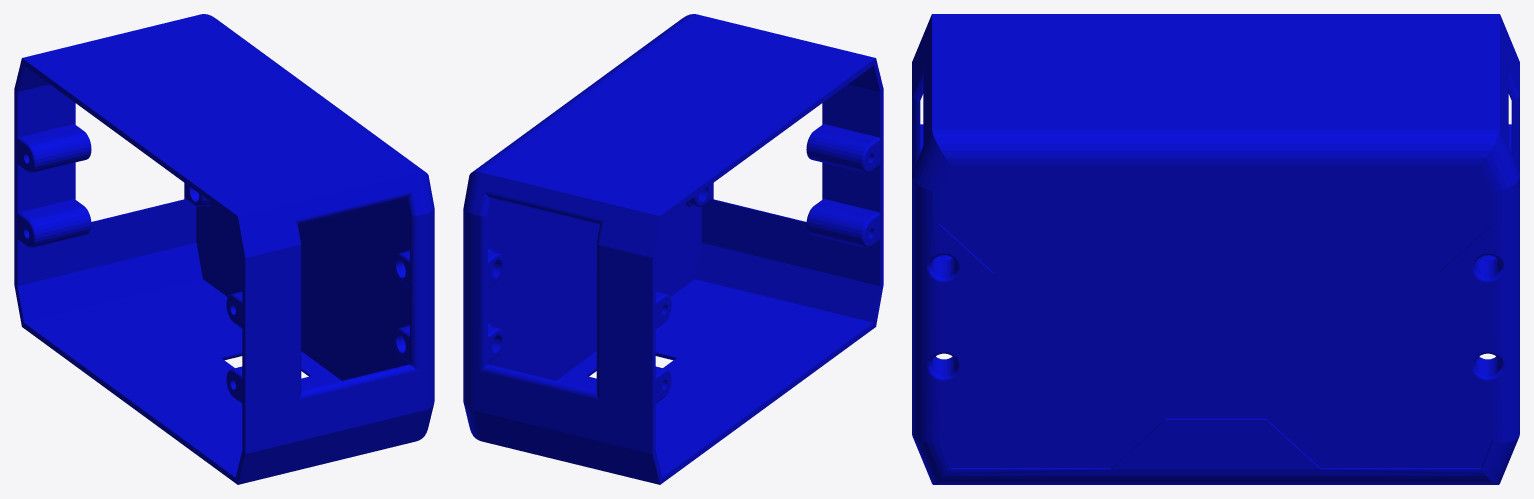
File: Backpack-DX_FCD-Conv_BDR-Col.dae
3 views of the same model, side by side, from view 1: azimuth 30°, elevation 25°; view 2: azimuth 150°, elevation 25°; view 3: azimuth 270°, elevation 25° (orthographic). The views are drawn at different scales.
Visible parts, largest first — view 1: Backpack-DX; view 2: Backpack-DX; view 3: Backpack-DX.
Boxes of the visible parts, bbox=[...] form: Backpack-DX: bbox=[14, 14, 434, 484]; Backpack-DX: bbox=[463, 14, 883, 484]; Backpack-DX: bbox=[912, 14, 1519, 484].
Size of the model in its own units: 44 by 89.44 by 57.44.
